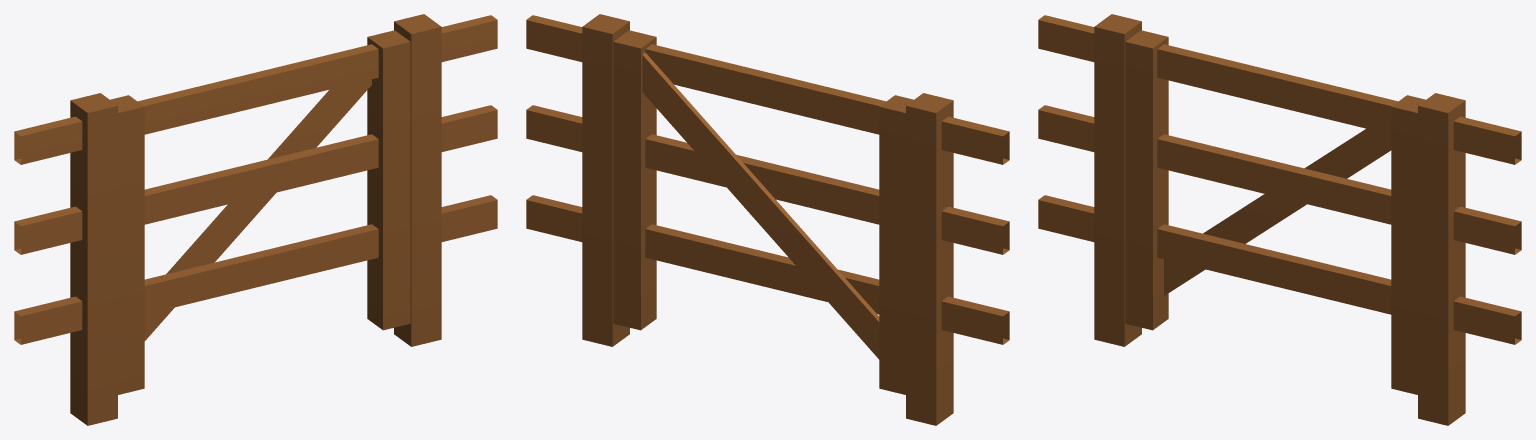
The model's file is Bld_02_Fence_Wood_Gate_Single_Short_Sides_01.obj.
The picture shows the model from 3 angles, left to right: view 1: azimuth 30°, elevation 25°; view 2: azimuth 150°, elevation 25°; view 3: azimuth 330°, elevation 25°; orthographic projection.
Parts seen in each view (by area): view 1: Bld_02_Fence_Wood_Gate_Single_Short_01, Bld_02_Fence_Wood_Gate_Single_Short_Sides_01; view 2: Bld_02_Fence_Wood_Gate_Single_Short_01, Bld_02_Fence_Wood_Gate_Single_Short_Sides_01; view 3: Bld_02_Fence_Wood_Gate_Single_Short_01, Bld_02_Fence_Wood_Gate_Single_Short_Sides_01.
Part boxes in pixels (left/top/right/bottom): Bld_02_Fence_Wood_Gate_Single_Short_01: left=110, top=30, right=410, bottom=394; Bld_02_Fence_Wood_Gate_Single_Short_Sides_01: left=14, top=14, right=497, bottom=425; Bld_02_Fence_Wood_Gate_Single_Short_01: left=613, top=30, right=913, bottom=394; Bld_02_Fence_Wood_Gate_Single_Short_Sides_01: left=526, top=14, right=1009, bottom=425; Bld_02_Fence_Wood_Gate_Single_Short_01: left=1125, top=30, right=1425, bottom=394; Bld_02_Fence_Wood_Gate_Single_Short_Sides_01: left=1038, top=14, right=1521, bottom=425.
Size of the model in its own units: 2.44 by 1.53 by 0.155.
Materials: 1 (1 with a texture image).
